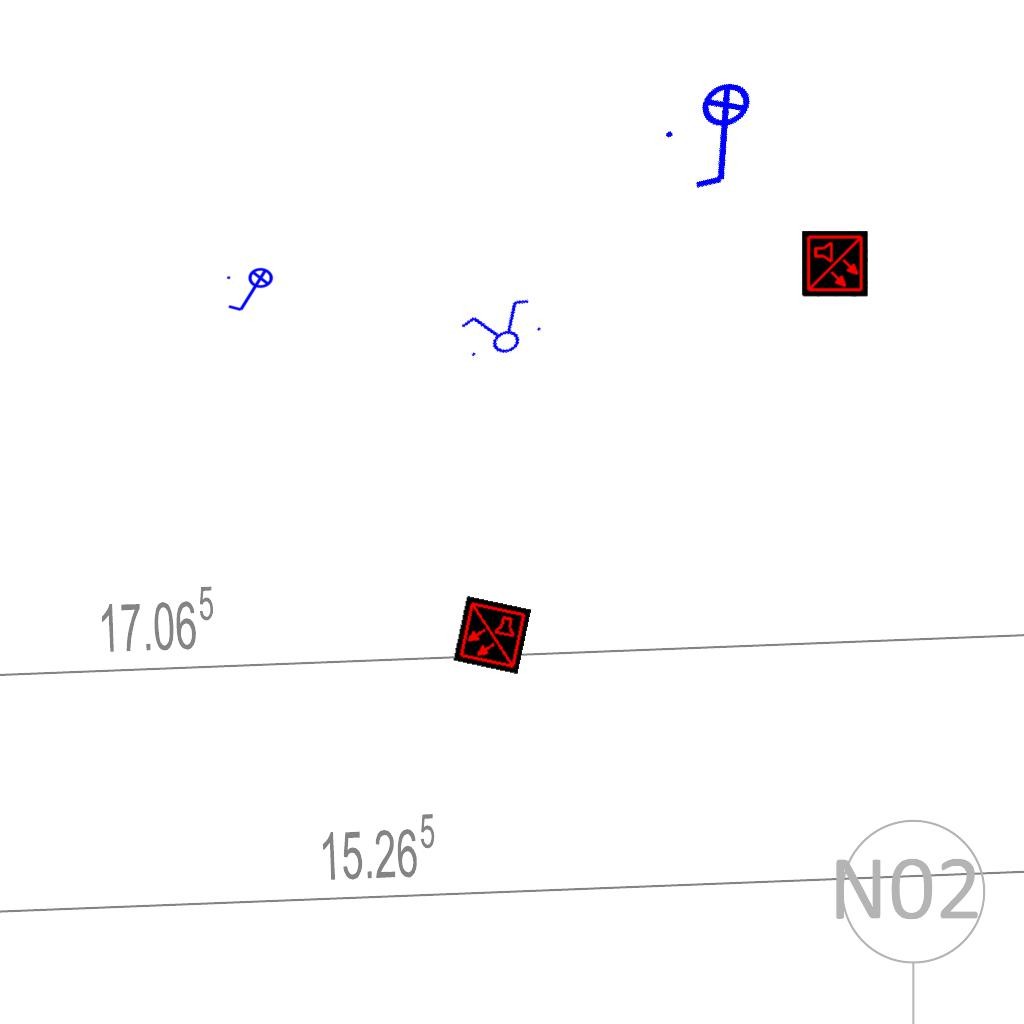Ausschalter_beleuchtet: (651, 67, 795, 205), (224, 267, 280, 315)
OKW_Multisensormelder_(Kombination_optischer_Rauch-Kahlenmonoxid_Waerme-Melder): (452, 595, 532, 675), (802, 231, 868, 297)
Serienschalter: (453, 292, 549, 368)
